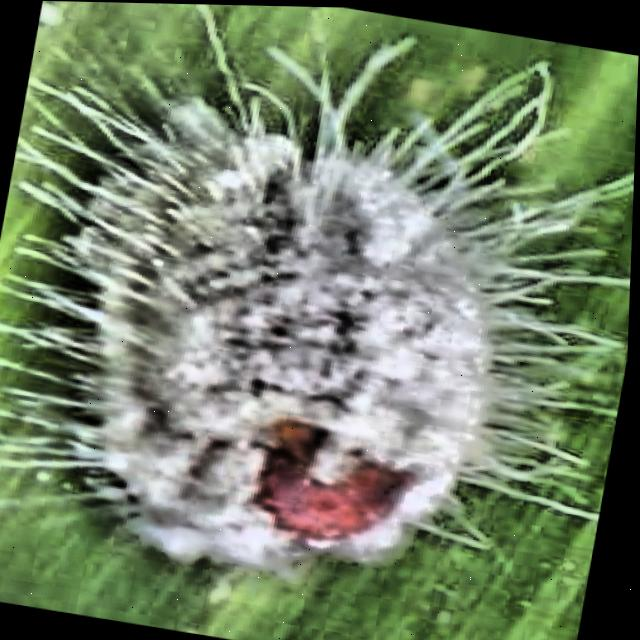Mealy-bug: (0, 6, 640, 640)
